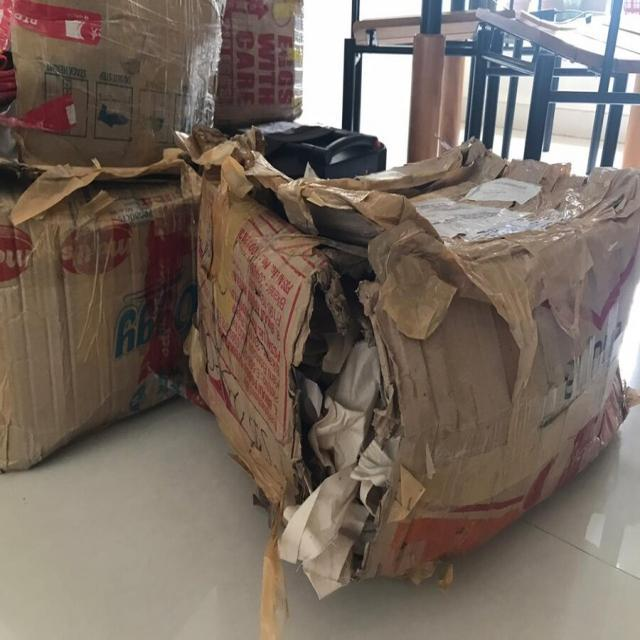hole: (287, 248, 407, 560)
